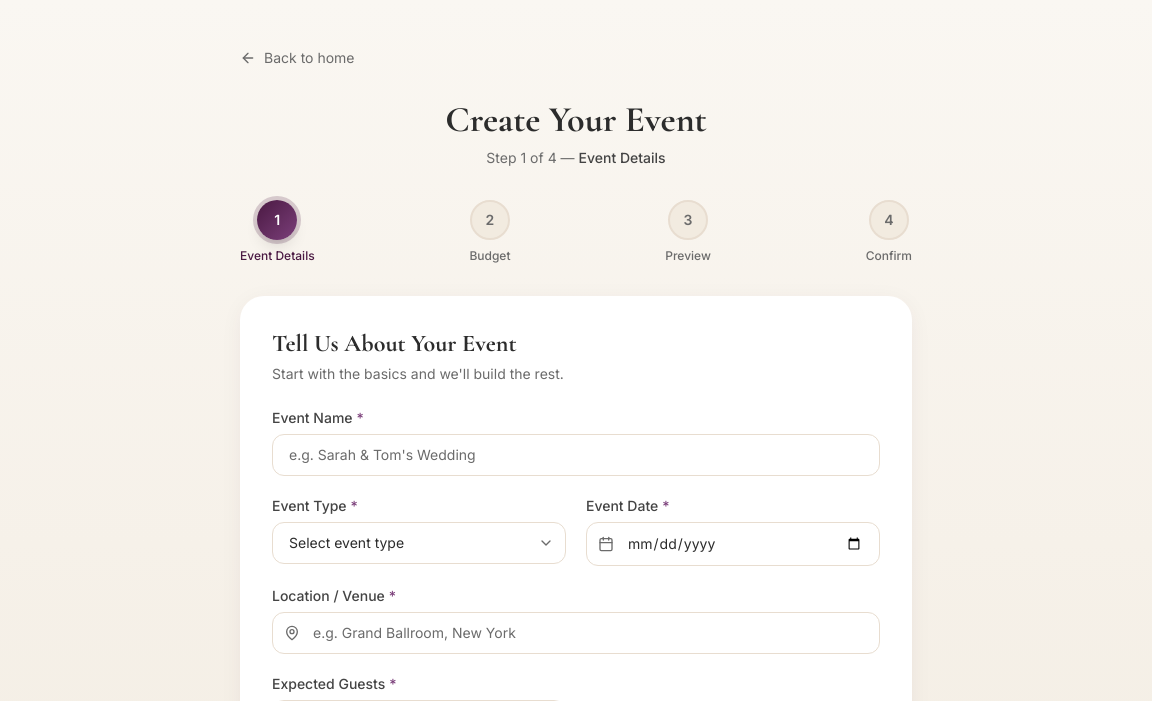
Layout and Core Pages › CreateEventPage Component › renders Step 1 Event Basics and advances to Step 2 when valid
expect the heading "Create Your Event" is shown: met, box [445, 98, 707, 141]
// Fill in Step 1
Type "Anniversary Extravaganza" into the field labelled "Event Name*" at (576, 455), box [272, 434, 880, 476]
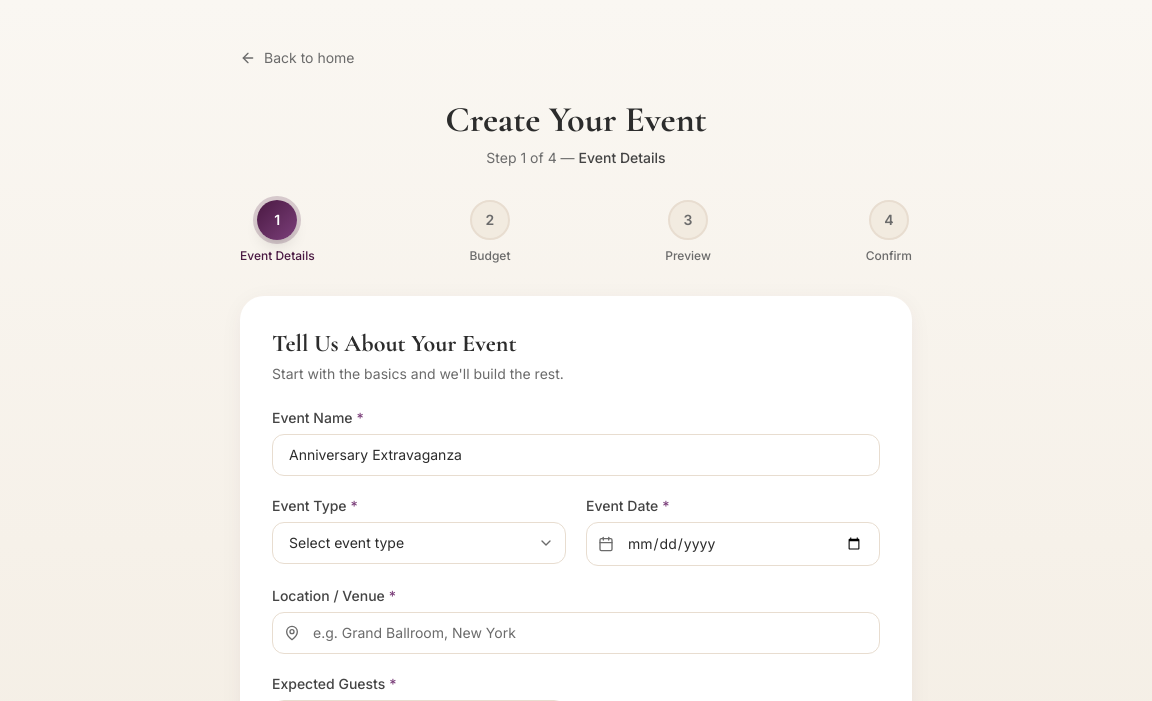
Select "✨ Anniversary" in the dropdown labelled "Event Type*" at (419, 543), box [272, 522, 566, 564]
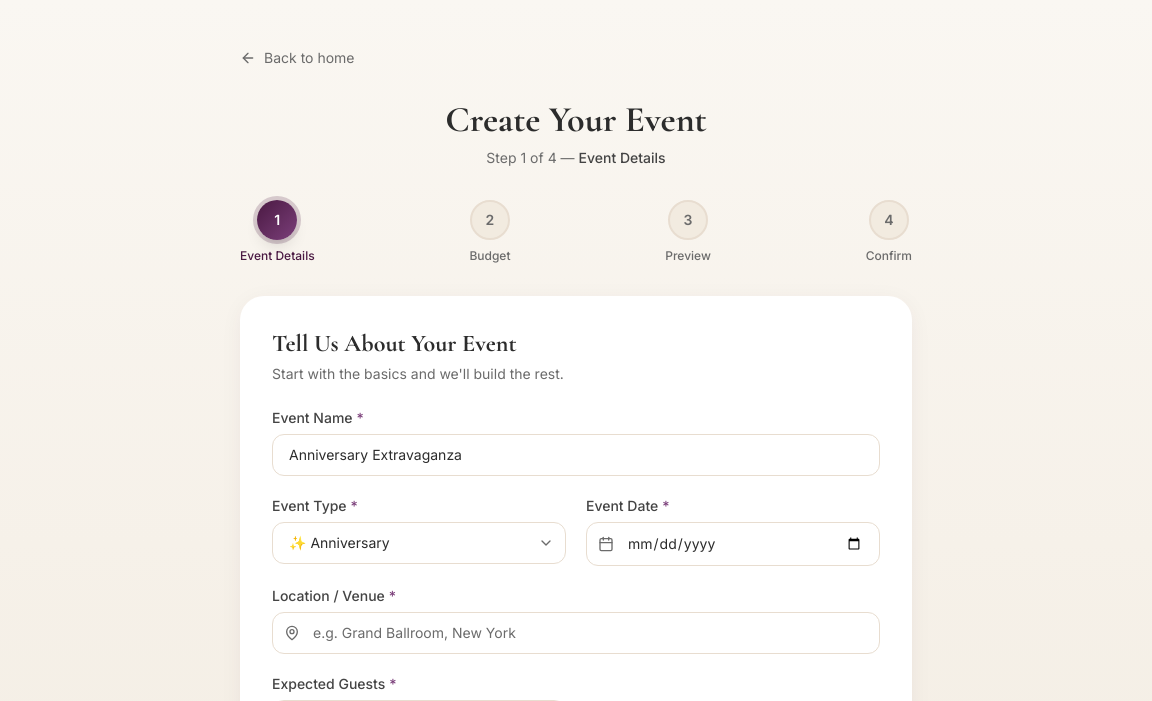
Type "2028-06-15" into the date field labelled "Event Date*" at (733, 544), box [586, 522, 880, 566]
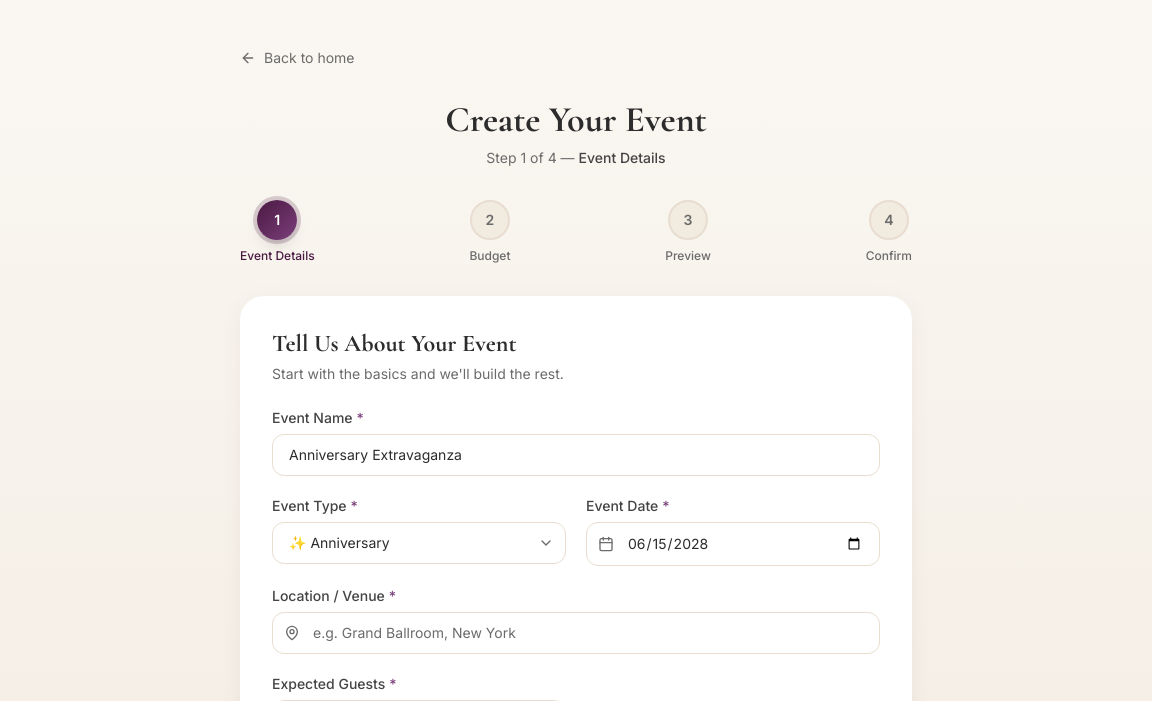
Type "Crystal Ballroom, Chicago" into the field labelled "Location / Venue*" at (576, 633), box [272, 612, 880, 654]
(page scrolled)
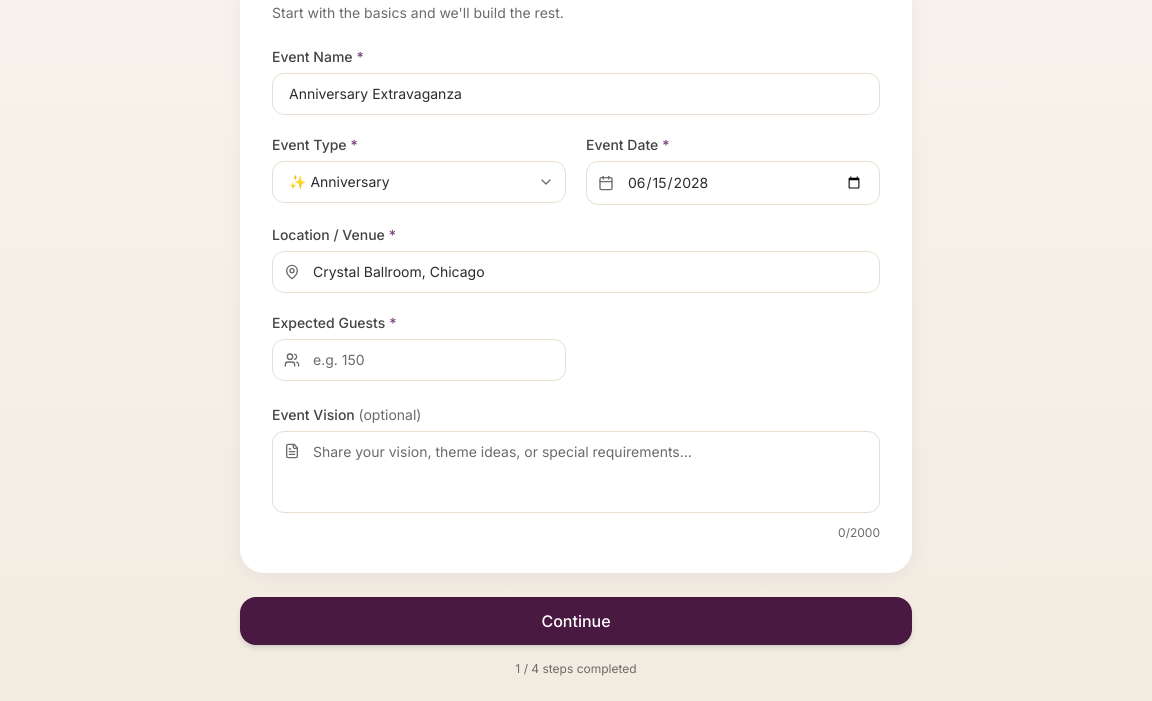
Type "75" into the number field labelled "Expected Guests*" at (419, 360), box [272, 339, 566, 381]
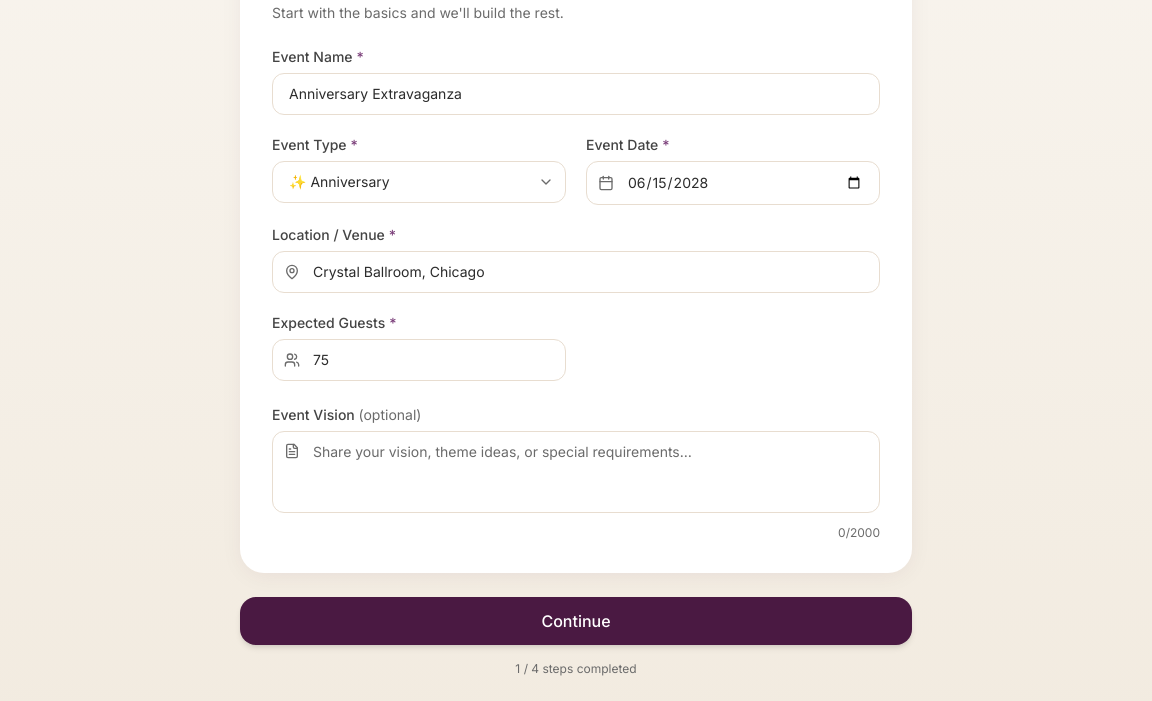
// Next step
Click the button "Continue" at (576, 621), box [240, 597, 912, 645]
(page scrolled)
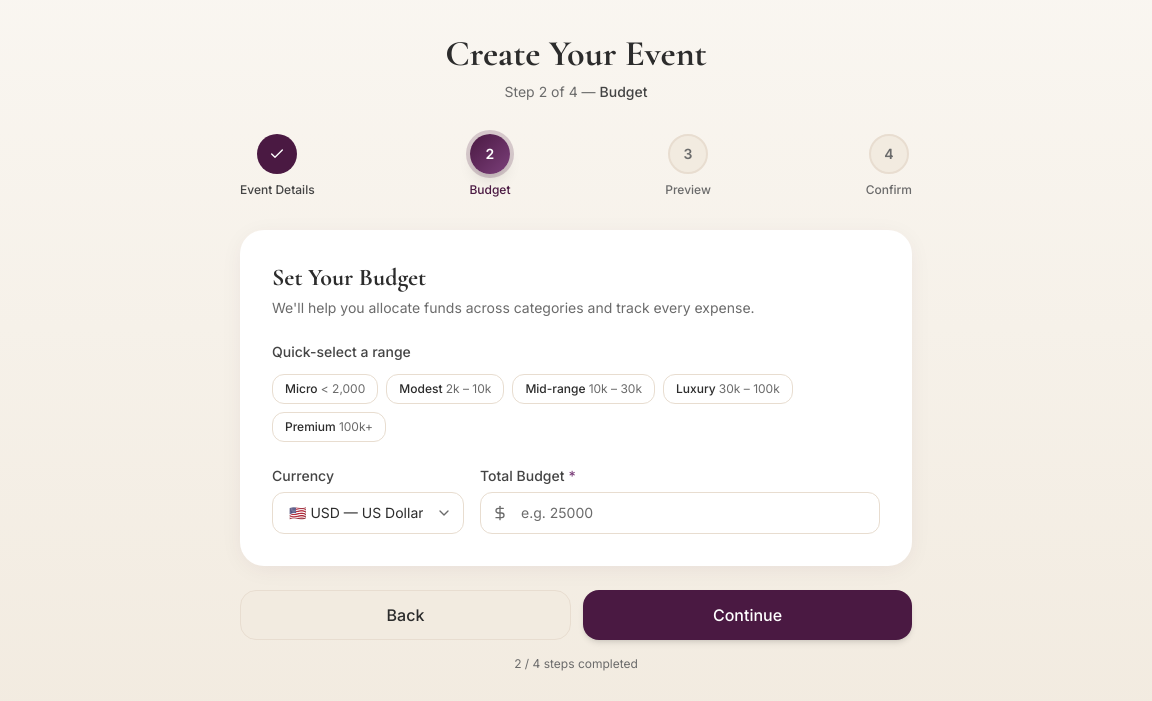
expect the text "Step 2 of 4 — Budget" is shown: met, box [504, 83, 648, 100]
